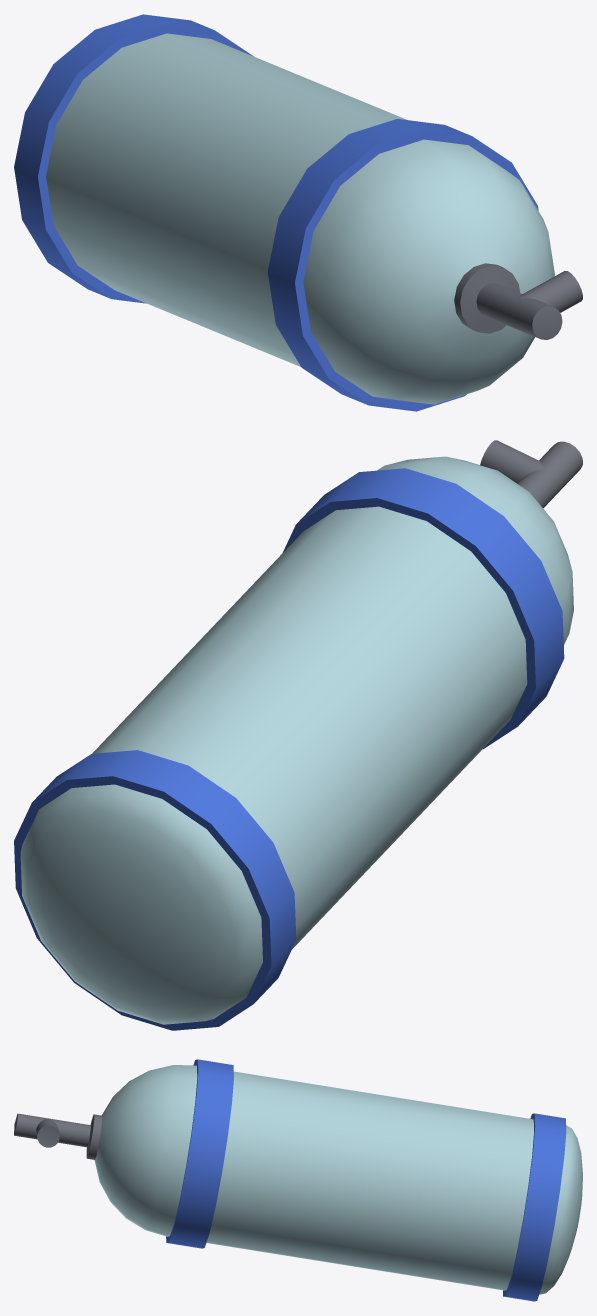
3 renders of one model, top to bottom at view 1: azimuth 30°, elevation 25°; view 2: azimuth 150°, elevation 25°; view 3: azimuth 270°, elevation 25°, orthographic. The views are drawn at different scales.
Parts seen in each view (by area): view 1: Part_A; view 2: Part_A; view 3: Part_A.
Boxes of the visible parts, x1,y1,x2,y2 form: Part_A: (14, 14, 582, 411); Part_A: (14, 440, 582, 1030); Part_A: (14, 1059, 582, 1301).
Size of the model in its own units: 0.5082 by 0.676 by 1.54.
